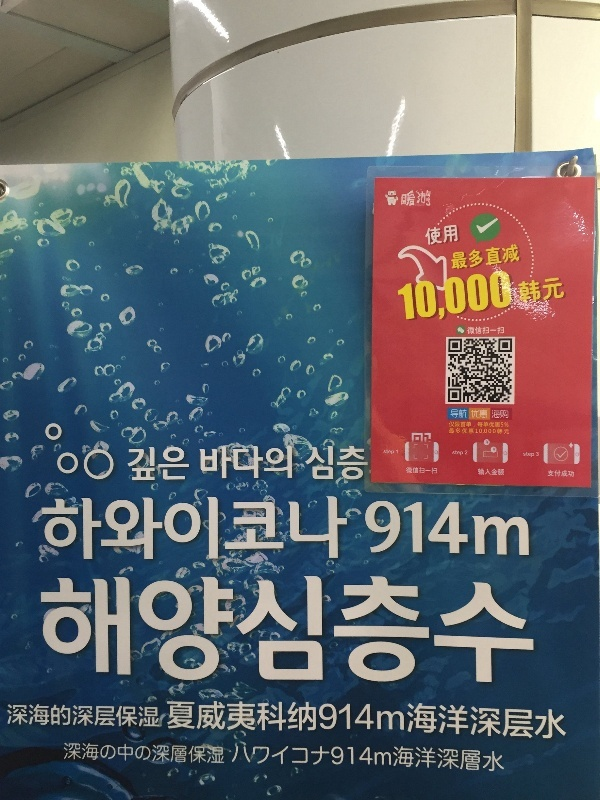text: (49, 566, 64, 694), (65, 566, 80, 694), (81, 566, 96, 694), (97, 566, 112, 694), (113, 566, 128, 694), (129, 566, 144, 694), (145, 566, 160, 694), (161, 566, 176, 694), (177, 566, 192, 694), (193, 566, 208, 694), (209, 566, 224, 694), (225, 566, 240, 694), (241, 566, 256, 694), (257, 566, 272, 694), (273, 566, 288, 694), (289, 566, 304, 694), (305, 566, 320, 694), (321, 566, 336, 694), (337, 566, 352, 694), (353, 566, 368, 694), (369, 566, 384, 694), (385, 566, 400, 694), (401, 566, 416, 694), (417, 566, 432, 694), (433, 566, 448, 694), (449, 566, 464, 694), (465, 566, 480, 694), (481, 566, 496, 694), (497, 566, 512, 694), (513, 566, 528, 694), (529, 566, 544, 694), (38, 566, 48, 694), (49, 493, 64, 572), (65, 493, 80, 572), (81, 493, 96, 572), (97, 493, 112, 572), (113, 493, 128, 572), (129, 493, 144, 572), (145, 493, 160, 572), (161, 493, 176, 572), (177, 493, 192, 572), (193, 493, 208, 572), (209, 493, 224, 572), (225, 493, 240, 572), (241, 493, 256, 572), (257, 493, 272, 572), (273, 493, 288, 572), (289, 493, 304, 572), (369, 495, 384, 564), (385, 495, 400, 564), (401, 495, 416, 564), (417, 495, 432, 564), (433, 495, 448, 564), (449, 495, 464, 564), (465, 495, 480, 564), (481, 495, 496, 564), (497, 495, 512, 564), (513, 495, 528, 564), (401, 268, 416, 330), (417, 268, 432, 330), (433, 268, 448, 330), (449, 268, 464, 330), (465, 268, 480, 330), (481, 268, 496, 330), (497, 268, 512, 330), (39, 493, 48, 572), (417, 699, 432, 743), (433, 699, 448, 743), (449, 699, 464, 743), (465, 699, 480, 743), (481, 699, 496, 743), (497, 699, 512, 743), (513, 699, 528, 743), (529, 699, 544, 743), (545, 699, 560, 743), (321, 445, 336, 483), (337, 445, 352, 483), (353, 445, 368, 483), (129, 446, 144, 483), (145, 446, 160, 483), (161, 446, 176, 483), (209, 444, 224, 481), (225, 444, 240, 481), (241, 444, 256, 481), (257, 444, 272, 481), (273, 444, 288, 481), (177, 699, 192, 736), (193, 699, 208, 736), (209, 699, 224, 736), (225, 699, 240, 736), (241, 699, 256, 736), (257, 699, 272, 736), (273, 699, 288, 736), (289, 699, 304, 736), (177, 446, 191, 483), (321, 702, 336, 735), (337, 702, 352, 735), (353, 702, 368, 735), (369, 702, 384, 735), (385, 702, 400, 735), (307, 445, 320, 483), (401, 744, 416, 776), (417, 744, 432, 776), (433, 744, 448, 776), (449, 744, 464, 776), (465, 744, 480, 776), (481, 744, 496, 776), (17, 702, 32, 732), (33, 702, 48, 732), (49, 702, 64, 732), (65, 702, 80, 732), (81, 702, 96, 732), (97, 702, 112, 732), (113, 702, 128, 732), (129, 702, 144, 732), (145, 702, 160, 732), (305, 699, 317, 736), (406, 699, 416, 743), (465, 242, 480, 271), (481, 242, 496, 271), (497, 242, 512, 271), (529, 277, 544, 305), (545, 277, 560, 305), (362, 495, 368, 564), (337, 745, 352, 772), (353, 745, 368, 772), (369, 745, 384, 772), (241, 743, 256, 769), (257, 743, 272, 769), (273, 743, 288, 769), (289, 743, 304, 769), (305, 743, 320, 769), (451, 242, 464, 271), (65, 742, 80, 767), (81, 742, 96, 767), (97, 742, 112, 767), (113, 742, 128, 767), (129, 742, 144, 767), (145, 742, 160, 767), (161, 742, 176, 767), (177, 742, 192, 767), (193, 742, 208, 767), (209, 742, 224, 767), (166, 699, 176, 736), (433, 223, 448, 247), (199, 444, 208, 481), (395, 268, 400, 330), (561, 699, 568, 743), (401, 187, 416, 207), (417, 187, 432, 207), (6, 702, 16, 732), (497, 744, 506, 776), (518, 277, 528, 305), (529, 495, 533, 564), (321, 743, 331, 769), (545, 566, 547, 694), (392, 744, 400, 776), (449, 223, 459, 247), (305, 493, 308, 572), (513, 242, 521, 271), (385, 745, 393, 772), (401, 702, 407, 735), (233, 743, 240, 769), (425, 223, 432, 247), (417, 466, 432, 476), (481, 467, 496, 477), (289, 444, 293, 481), (561, 277, 566, 305), (331, 745, 336, 772), (451, 409, 464, 419), (561, 469, 575, 478), (513, 268, 515, 330), (481, 327, 496, 335), (369, 445, 372, 483), (450, 421, 464, 429), (497, 410, 509, 419), (548, 469, 560, 478), (481, 422, 496, 429), (449, 427, 464, 434), (481, 428, 496, 435), (467, 327, 480, 335), (406, 466, 416, 476), (385, 449, 399, 456), (497, 428, 510, 435), (471, 409, 480, 419), (465, 421, 475, 429), (497, 467, 505, 477), (453, 450, 464, 457), (529, 451, 540, 458), (481, 409, 488, 419), (501, 422, 512, 428), (318, 702, 320, 735), (497, 327, 505, 335), (465, 427, 474, 434), (433, 466, 438, 476), (492, 410, 496, 419), (475, 428, 480, 435), (523, 451, 528, 458), (161, 702, 162, 732), (497, 422, 501, 429), (225, 742, 226, 767), (465, 450, 468, 457), (465, 409, 467, 419), (478, 467, 480, 477), (478, 422, 480, 429), (383, 449, 384, 456)
